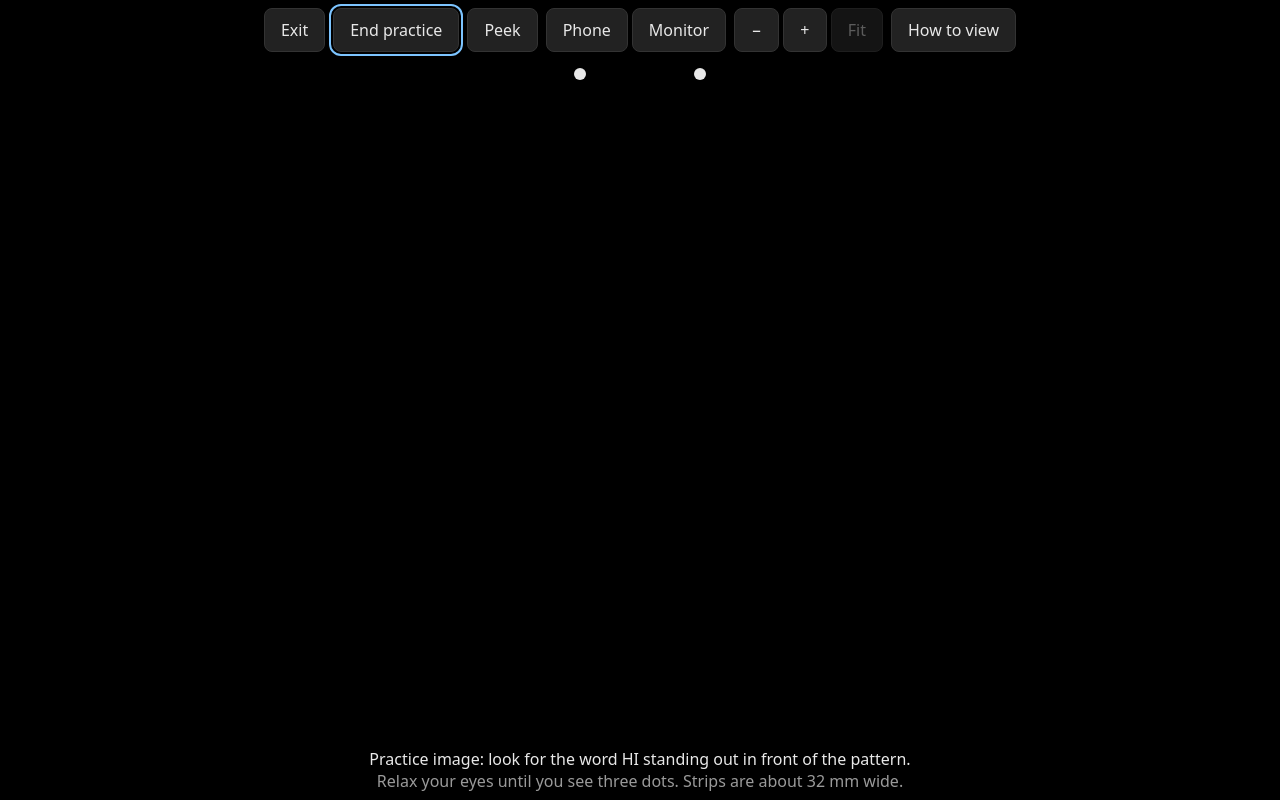
Viewer › the practice image shows in place of the scene, which it leaves alone
Earlier steps of the test are not shown.
Expected: the text "Practice image: look for" is shown, [369,748,550,770]
Click the button "How to view" at (953, 30), box [891,8,1016,52]
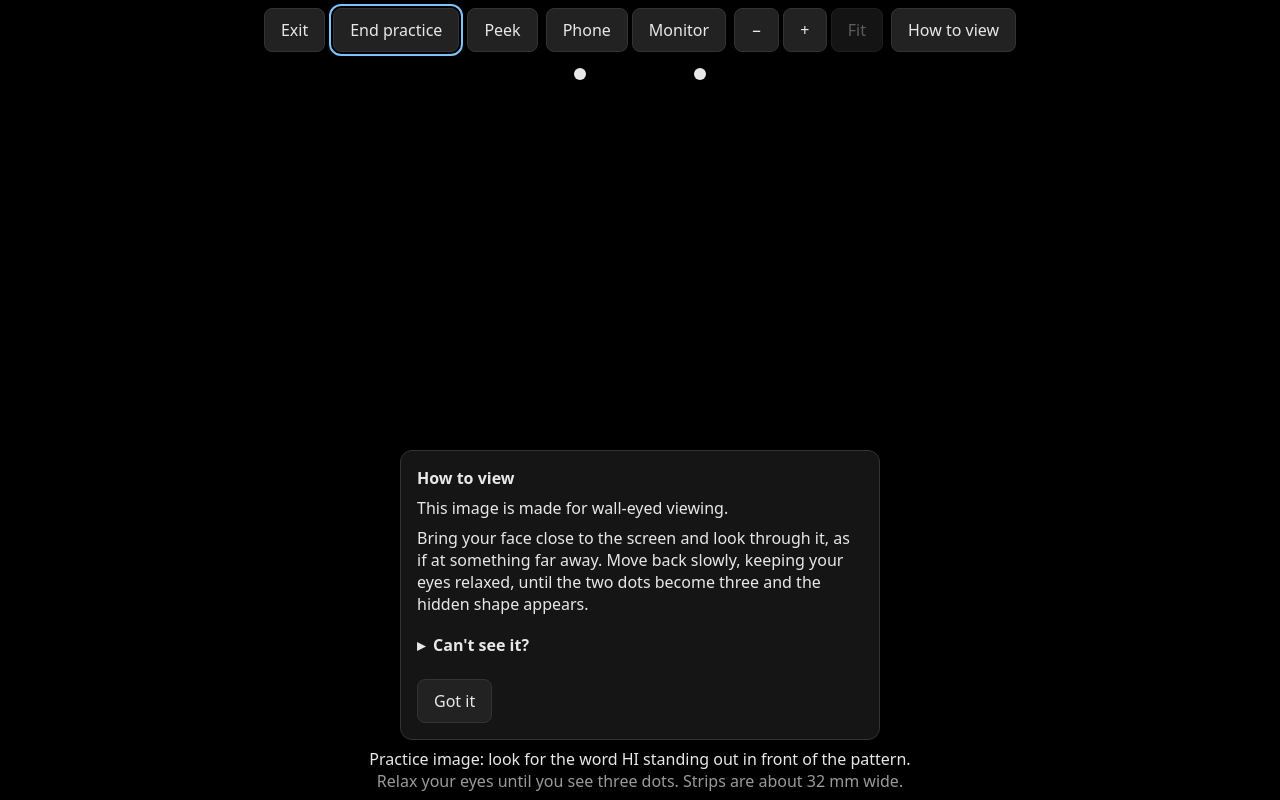
Click the button "Got it" at (455, 701), box [417,679,492,723]
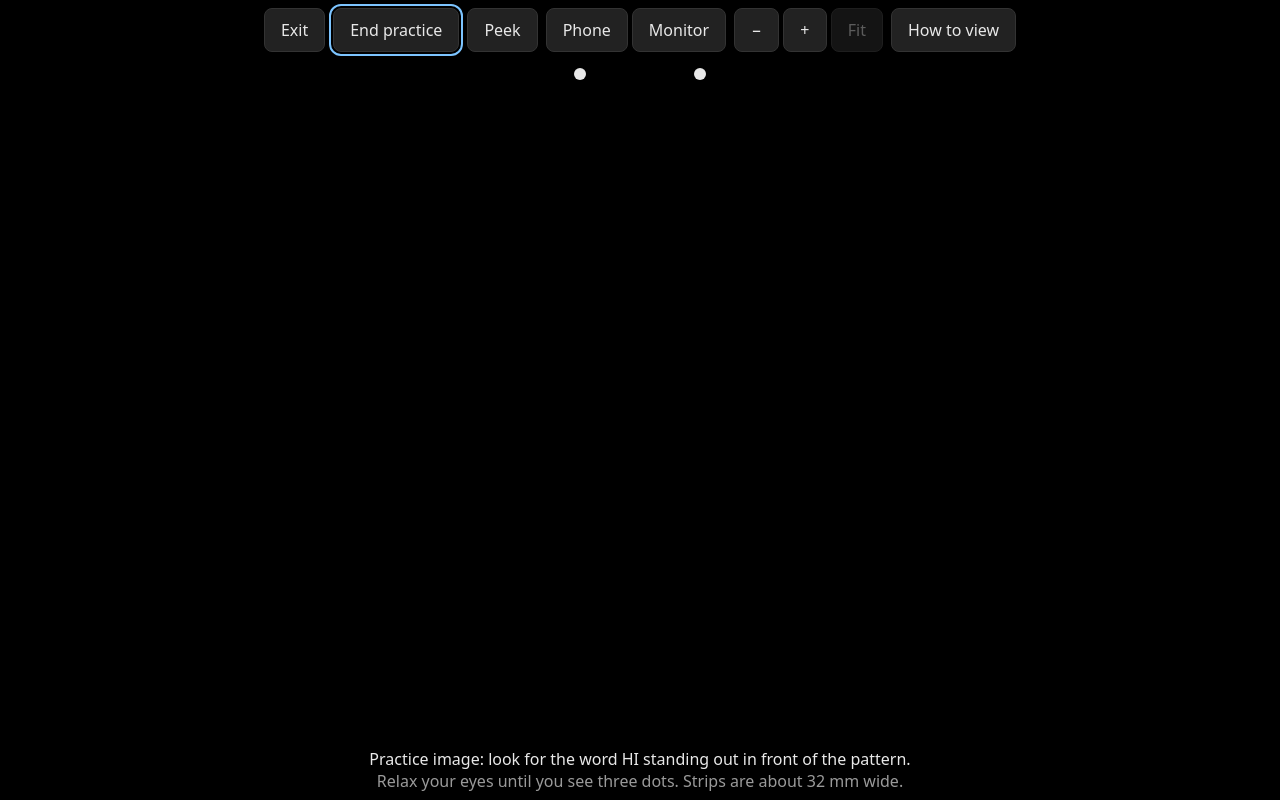
Click the button "End practice" at (396, 30), box [333,8,459,52]
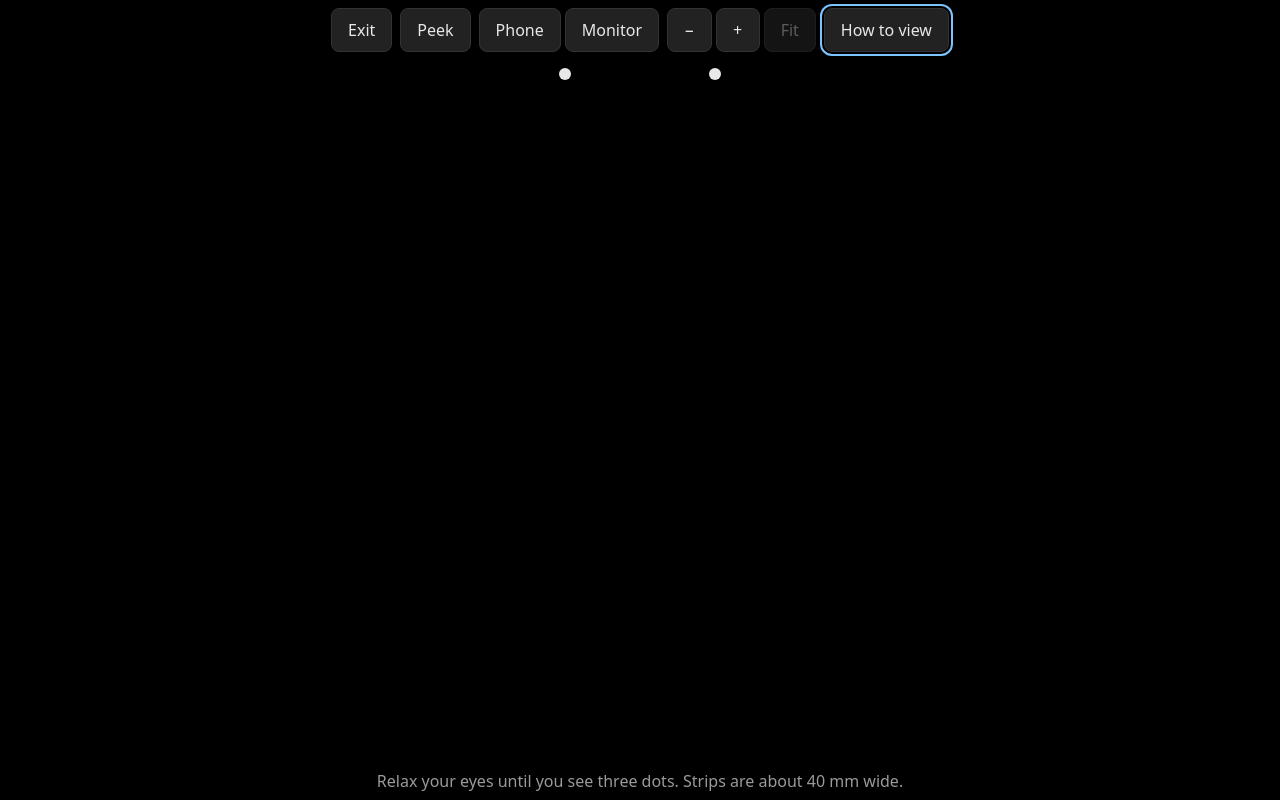
Expected: the button "End practice" is gone
Expected: the text "Practice image" is gone
